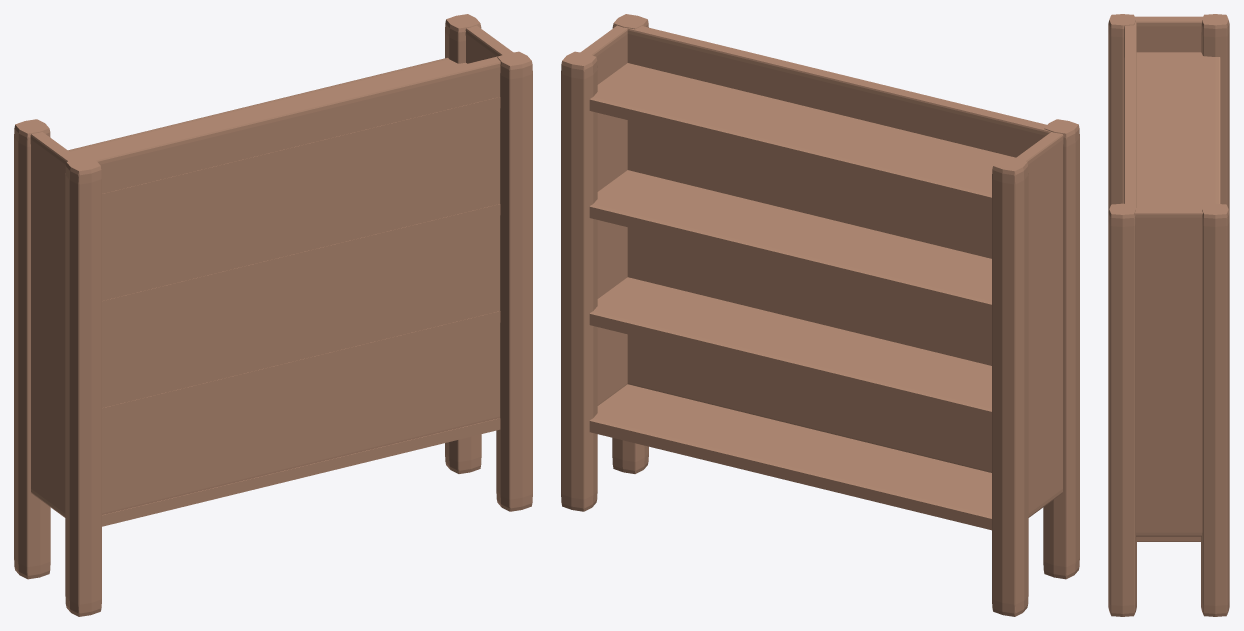
Rendered from Bedroom_Bookcase.fbx.
The picture shows the model from 3 angles, left to right: view 1: azimuth 30°, elevation 25°; view 2: azimuth 150°, elevation 25°; view 3: azimuth 270°, elevation 25°; orthographic projection. The views are drawn at different scales.
Visible parts, largest first — view 1: Bedroom_bookcase; view 2: Bedroom_bookcase; view 3: Bedroom_bookcase.
Boxes of the visible parts, bbox=[...] form: Bedroom_bookcase: bbox=[14, 14, 532, 616]; Bedroom_bookcase: bbox=[561, 14, 1079, 616]; Bedroom_bookcase: bbox=[1108, 14, 1229, 616].
Size of the model in its own units: 219 by 203 by 55.74.
